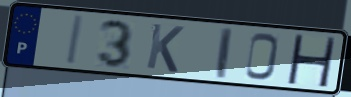0: (244, 32, 282, 82)
3: (96, 18, 136, 70)
H: (284, 33, 338, 89)
I: (64, 14, 87, 67), (215, 25, 235, 81)
K: (143, 21, 186, 75)
